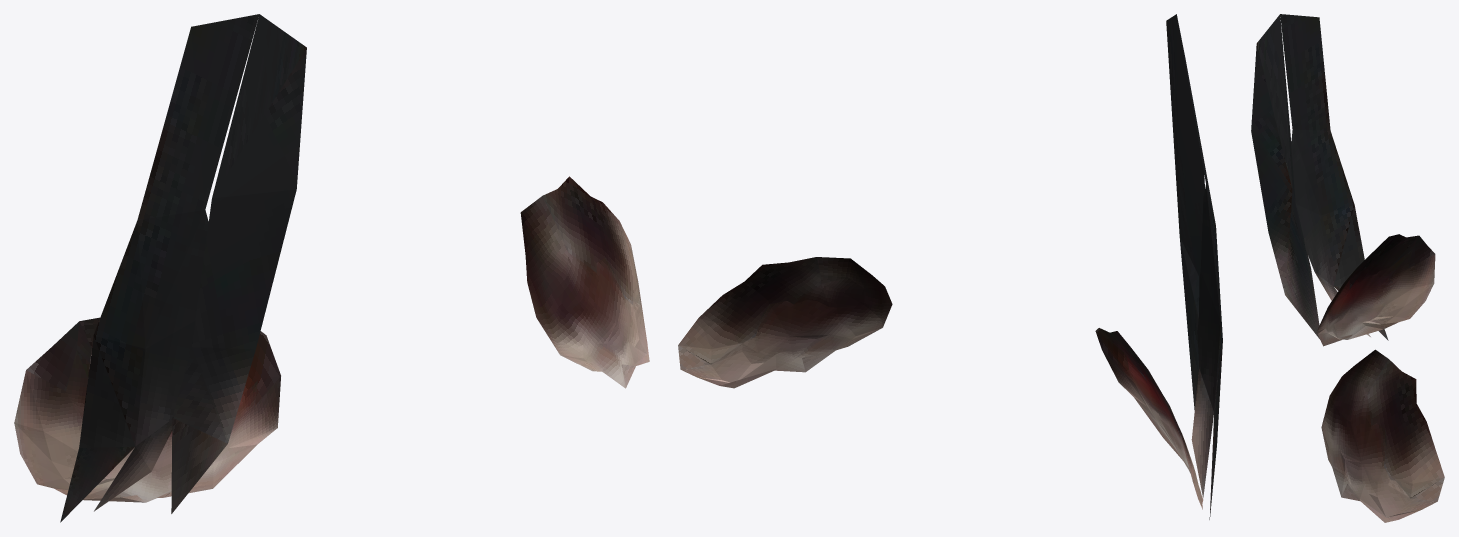
File: ewm_t2marksmanf_hat.glb
3 views of the same model, side by side, from view 1: azimuth 30°, elevation 25°; view 2: azimuth 150°, elevation 25°; view 3: azimuth 270°, elevation 25° (orthographic). The views are drawn at different scales.
Visible parts, largest first — view 1: ewm_t2marksmanf_hat; view 2: ewm_t2marksmanf_hat; view 3: ewm_t2marksmanf_hat.
Part boxes in pixels (x1,y1,x2,y2): ewm_t2marksmanf_hat: [14, 14, 649, 522]; ewm_t2marksmanf_hat: [678, 14, 1222, 519]; ewm_t2marksmanf_hat: [1251, 14, 1444, 522].
Size of the model in its own units: 0.1253 by 0.1027 by 0.0491.
Materials: 1 (1 with a texture image).
